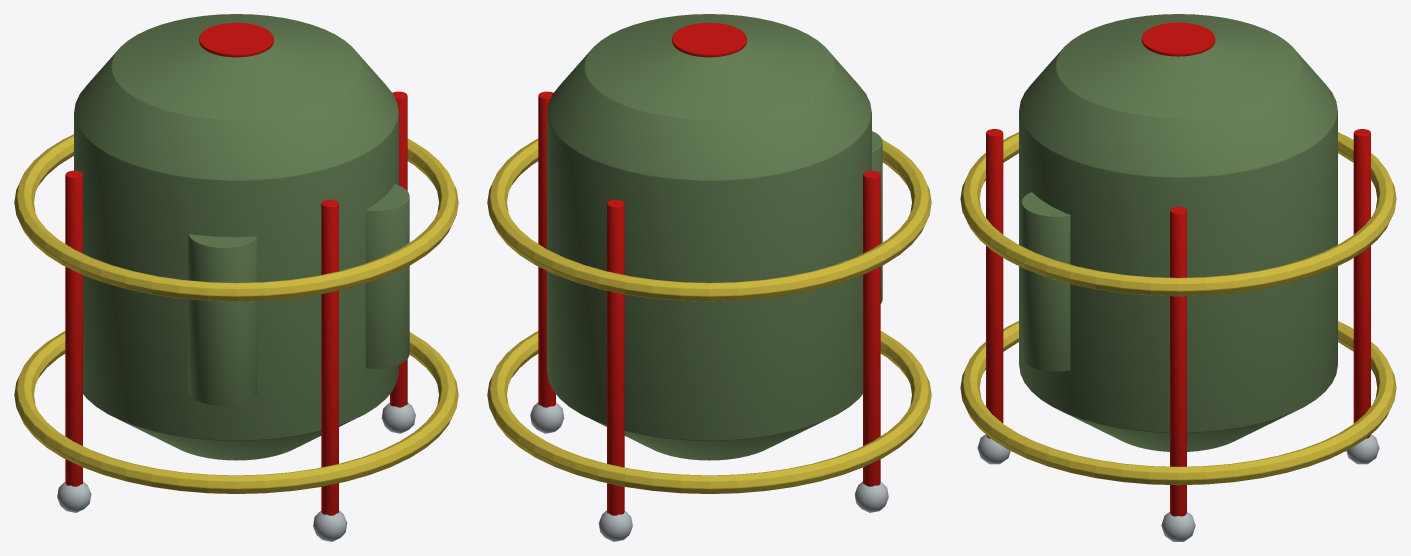
3 renders of one model, left to right at view 1: azimuth 30°, elevation 25°; view 2: azimuth 150°, elevation 25°; view 3: azimuth 270°, elevation 25°, orthographic.
Visible parts, largest first — view 1: TI076 / rounded cylindrical payload, TI076 / large protective guard ring.001, TI076 / large protective guard ring, TI076 / front ribbed service pod, TI076 / front ribbed service pod.001, TI076 / guard upright.003, TI076 / guard upright.002, TI076 / top red seal, TI076 / guard upright, TI076 / support foot, TI076 / support foot.002, TI076 / support foot.003; view 2: TI076 / rounded cylindrical payload, TI076 / large protective guard ring, TI076 / large protective guard ring.001, TI076 / guard upright.001, TI076 / guard upright.002, TI076 / guard upright, TI076 / top red seal, TI076 / support foot, TI076 / support foot.001, TI076 / support foot.002, TI076 / front ribbed service pod; view 3: TI076 / rounded cylindrical payload, TI076 / large protective guard ring.001, TI076 / large protective guard ring, TI076 / front ribbed service pod.001, TI076 / guard upright.001, TI076 / guard upright.003, TI076 / guard upright, TI076 / top red seal, TI076 / support foot, TI076 / support foot.001, TI076 / support foot.003.
Boxes of the visible parts, x1=… form: TI076 / rounded cylindrical payload: x1=74, y1=14, x2=398, y2=460; TI076 / large protective guard ring.001: x1=14, y1=134, x2=458, y2=301; TI076 / large protective guard ring: x1=14, y1=331, x2=458, y2=493; TI076 / front ribbed service pod: x1=188, y1=234, x2=256, y2=405; TI076 / front ribbed service pod.001: x1=365, y1=184, x2=409, y2=368; TI076 / guard upright.003: x1=321, y1=199, x2=338, y2=515; TI076 / guard upright.002: x1=65, y1=170, x2=82, y2=486; TI076 / top red seal: x1=199, y1=22, x2=273, y2=57; TI076 / guard upright: x1=390, y1=91, x2=407, y2=407; TI076 / support foot: x1=381, y1=402, x2=415, y2=433; TI076 / support foot.002: x1=57, y1=481, x2=91, y2=512; TI076 / support foot.003: x1=313, y1=510, x2=347, y2=541; TI076 / rounded cylindrical payload: x1=547, y1=14, x2=871, y2=460; TI076 / large protective guard ring: x1=487, y1=331, x2=931, y2=493; TI076 / large protective guard ring.001: x1=487, y1=138, x2=931, y2=301; TI076 / guard upright.001: x1=607, y1=199, x2=624, y2=515; TI076 / guard upright.002: x1=863, y1=170, x2=880, y2=486; TI076 / guard upright: x1=538, y1=91, x2=555, y2=407; TI076 / top red seal: x1=672, y1=22, x2=746, y2=57; TI076 / support foot: x1=530, y1=402, x2=564, y2=433; TI076 / support foot.001: x1=598, y1=510, x2=632, y2=541; TI076 / support foot.002: x1=854, y1=481, x2=888, y2=512; TI076 / front ribbed service pod: x1=872, y1=131, x2=882, y2=303; TI076 / rounded cylindrical payload: x1=1019, y1=14, x2=1337, y2=451; TI076 / large protective guard ring.001: x1=960, y1=132, x2=1396, y2=296; TI076 / large protective guard ring: x1=960, y1=321, x2=1396, y2=485; TI076 / front ribbed service pod.001: x1=1021, y1=192, x2=1070, y2=371; TI076 / guard upright.001: x1=1353, y1=129, x2=1370, y2=438; TI076 / guard upright.003: x1=986, y1=129, x2=1003, y2=438; TI076 / guard upright: x1=1170, y1=206, x2=1186, y2=516; TI076 / top red seal: x1=1141, y1=22, x2=1215, y2=56; TI076 / support foot: x1=1161, y1=512, x2=1195, y2=541; TI076 / support foot.001: x1=1346, y1=434, x2=1379, y2=464; TI076 / support foot.003: x1=977, y1=434, x2=1010, y2=464.
Bounding box in the file's own units: 1.78 × 1.91 × 1.78.
